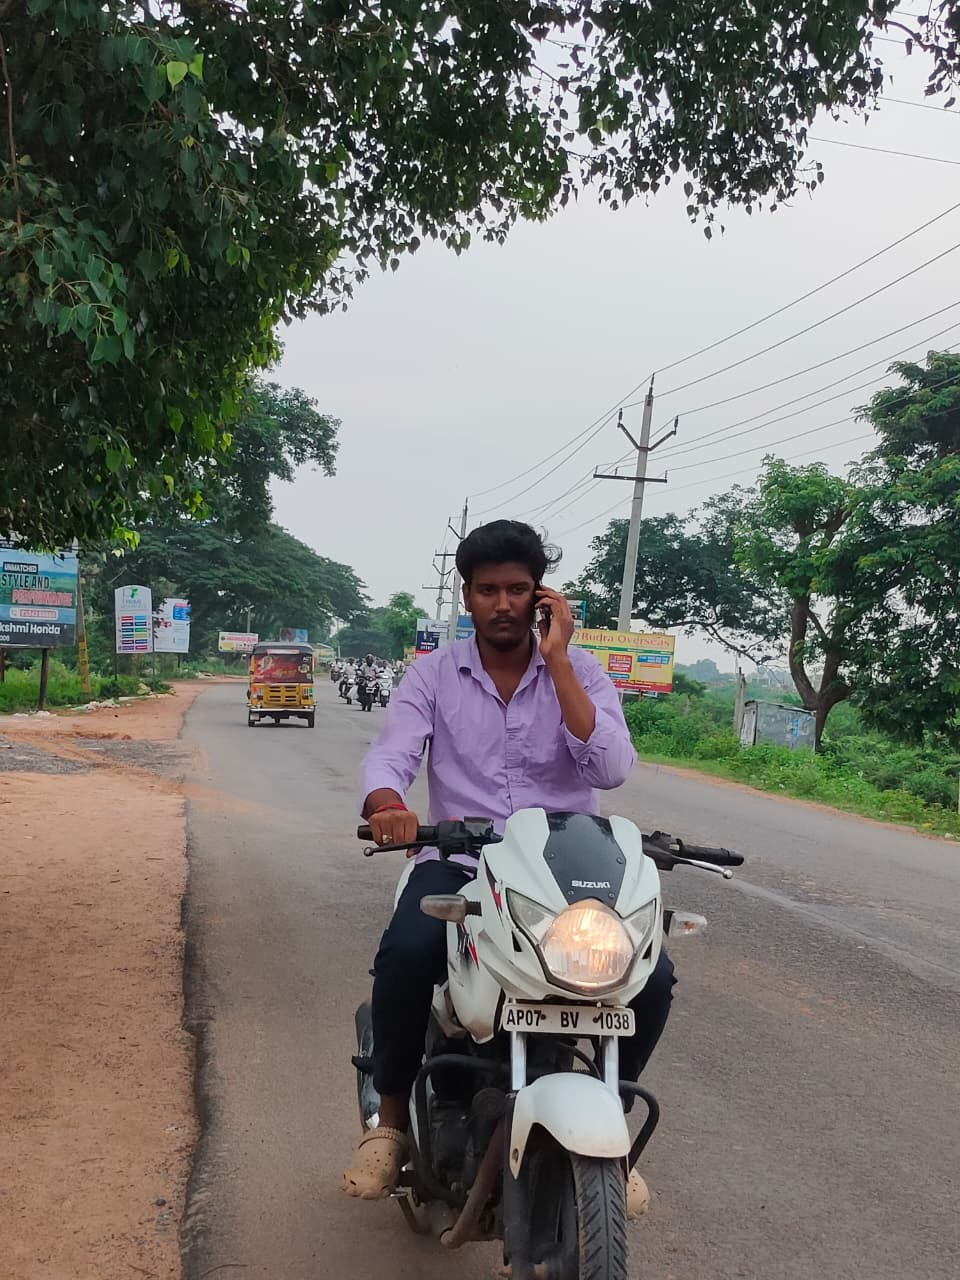mobile_usage: (521, 570, 597, 700)
no_helmet: (442, 506, 550, 657)
number_plate: (481, 992, 654, 1051)
